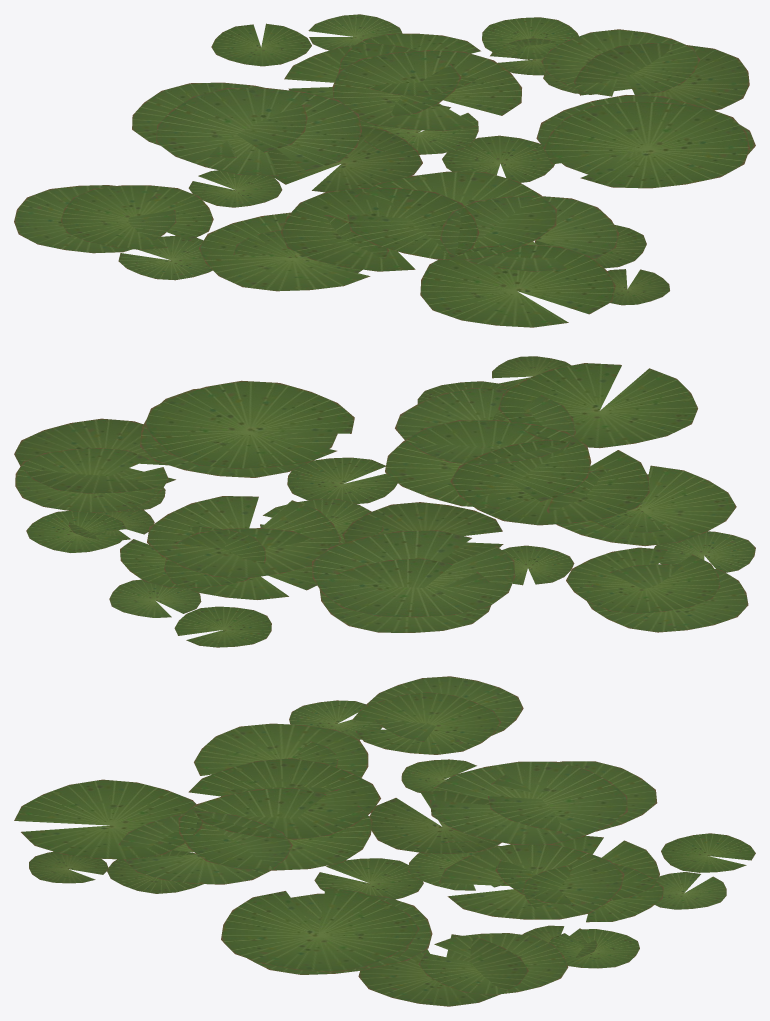
Rendered from fdx-lily.glb.
The picture shows the model from 3 angles, top to bottom: view 1: azimuth 30°, elevation 25°; view 2: azimuth 150°, elevation 25°; view 3: azimuth 270°, elevation 25°; orthographic projection. The views are drawn at different scales.
Visible parts, largest first — view 1: fdx_lily_b_lod0, fdx_lily_a_lod0, fdx_lily_c_lod0; view 2: fdx_lily_b_lod0, fdx_lily_a_lod0, fdx_lily_c_lod0; view 3: fdx_lily_b_lod0, fdx_lily_a_lod0, fdx_lily_c_lod0.
Boxes of the visible parts, <box> form: fdx_lily_b_lod0: <box>14,14,755,327</box>; fdx_lily_a_lod0: <box>60,17,749,305</box>; fdx_lily_c_lod0: <box>118,23,696,291</box>; fdx_lily_b_lod0: <box>14,363,748,632</box>; fdx_lily_a_lod0: <box>15,356,720,632</box>; fdx_lily_c_lod0: <box>114,381,755,647</box>; fdx_lily_b_lod0: <box>14,676,726,1006</box>; fdx_lily_a_lod0: <box>29,692,663,995</box>; fdx_lily_c_lod0: <box>106,700,755,971</box>.
Size of what is drawn, in the model's own units: 1.97 by 0.0269 by 1.87.
1 material, 1 textured.
